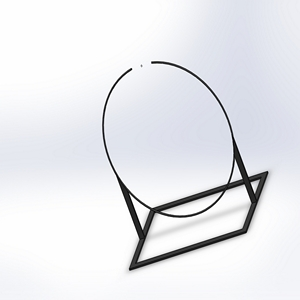circle: (100, 60, 268, 269)
